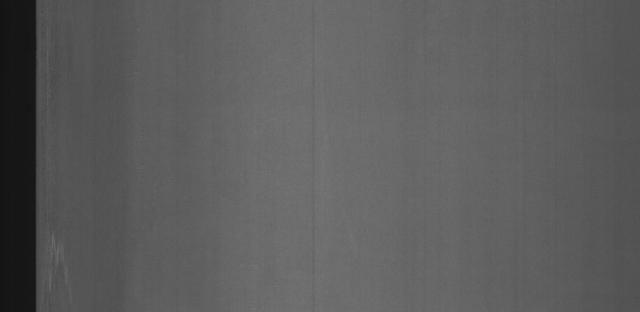silk_spot: (42, 219, 88, 301)
